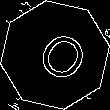O_SW: (22, 22, 88, 88)
